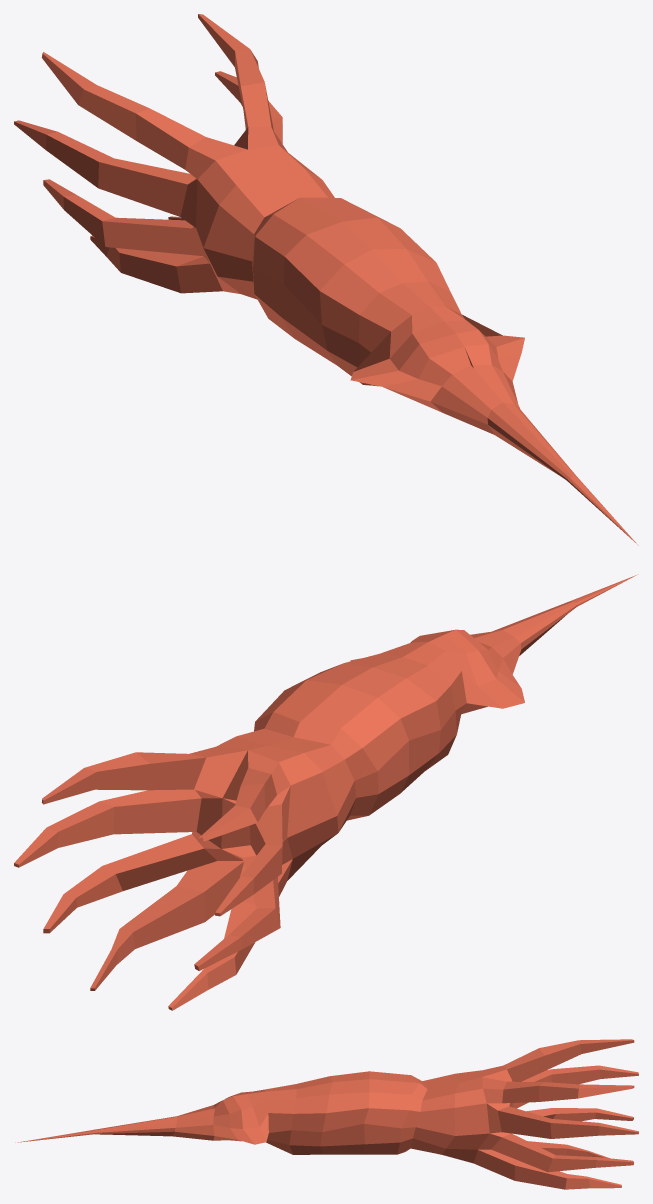
The model's file is Squid.glb.
3 renders of one model, top to bottom at view 1: azimuth 30°, elevation 25°; view 2: azimuth 150°, elevation 25°; view 3: azimuth 270°, elevation 25°, orthographic. The views are drawn at different scales.
Parts seen in each view (by area): view 1: Squid; view 2: Squid; view 3: Squid.
Part boxes in pixels (bbox=[...]): Squid: bbox=[14, 14, 638, 545]; Squid: bbox=[14, 574, 638, 1010]; Squid: bbox=[15, 1039, 638, 1189].
Bounding box in the file's own units: 0.0474 × 0.0413 × 0.2062.
